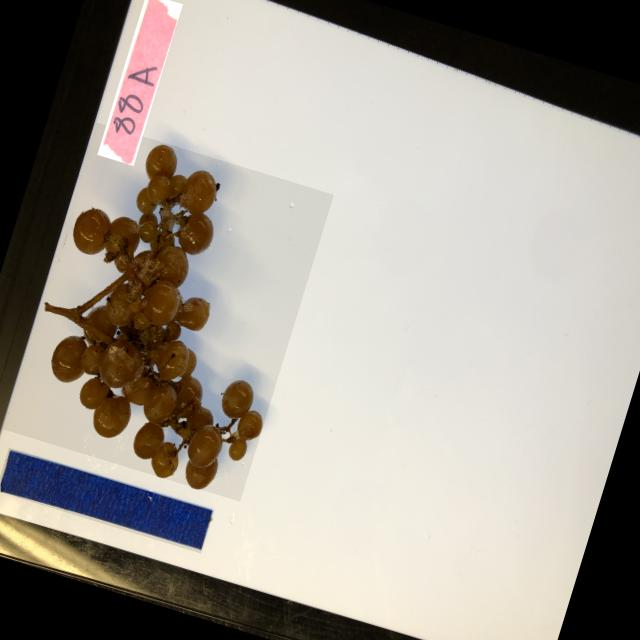grape_cluster: (2, 121, 334, 500)
index: (97, 0, 183, 165)
measure_label: (0, 446, 214, 552)
